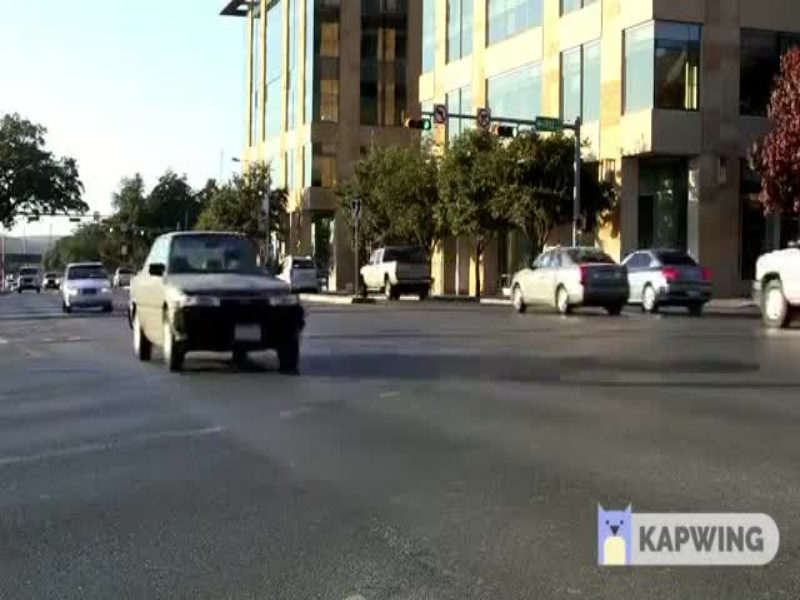car: (123, 227, 311, 382), (510, 247, 618, 309), (624, 240, 716, 310), (49, 261, 118, 325)
truck: (347, 245, 442, 301)
